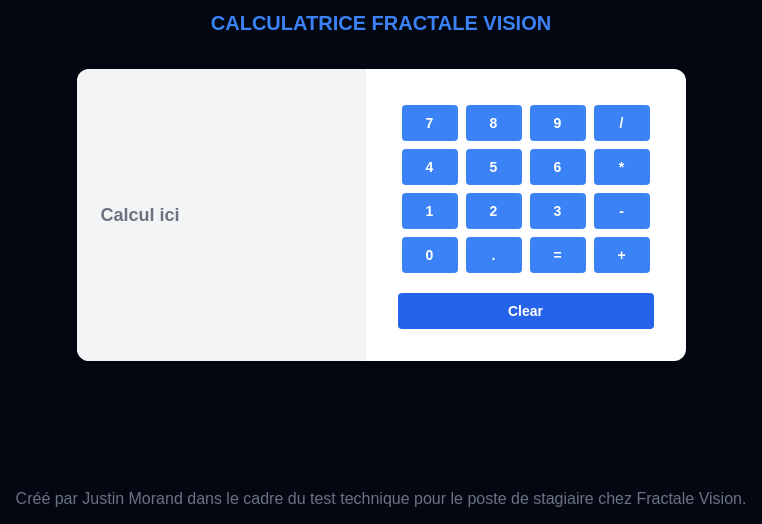
Test: Composant Home - Calculatrice Fractale Vision › effectue un calcul correct lors de l'appui sur '='
Click the button "1".
click(430, 211)  # box [402, 193, 458, 229]
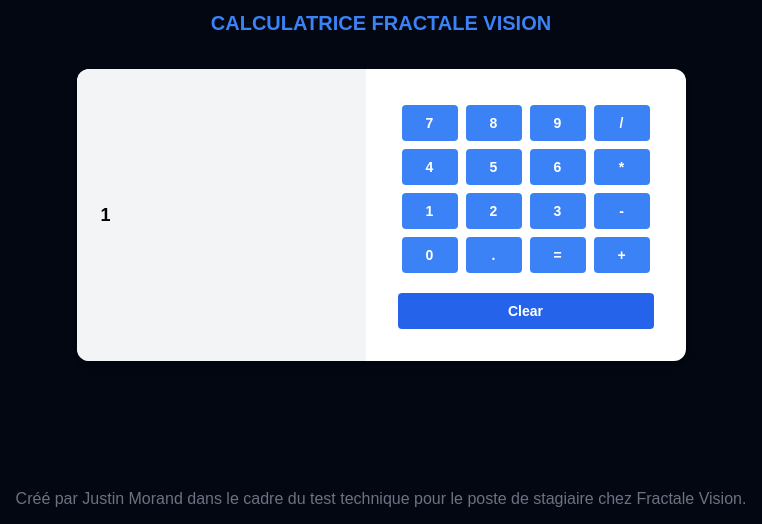
Click the button "+".
click(622, 255)  # box [594, 237, 650, 273]
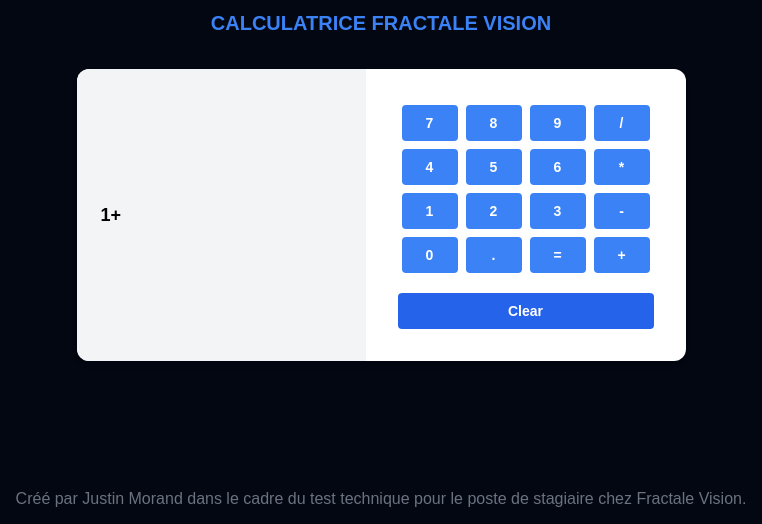
Click the button "2".
click(494, 211)  # box [466, 193, 522, 229]
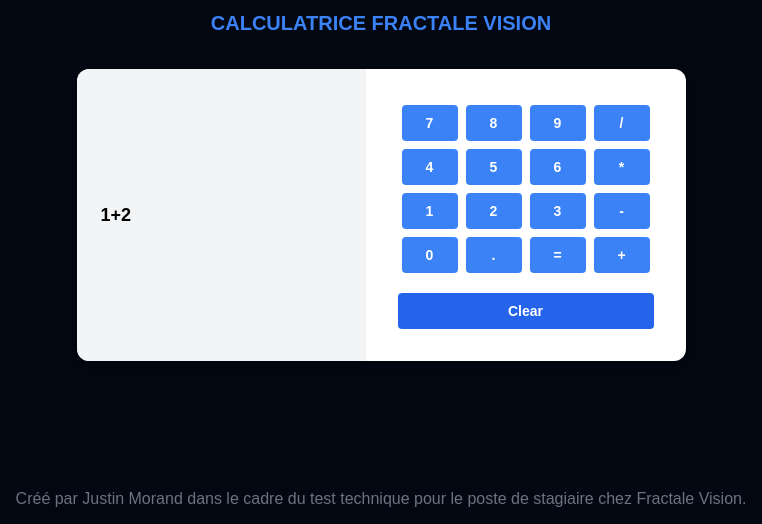
Click the button "=".
click(558, 255)  # box [530, 237, 586, 273]
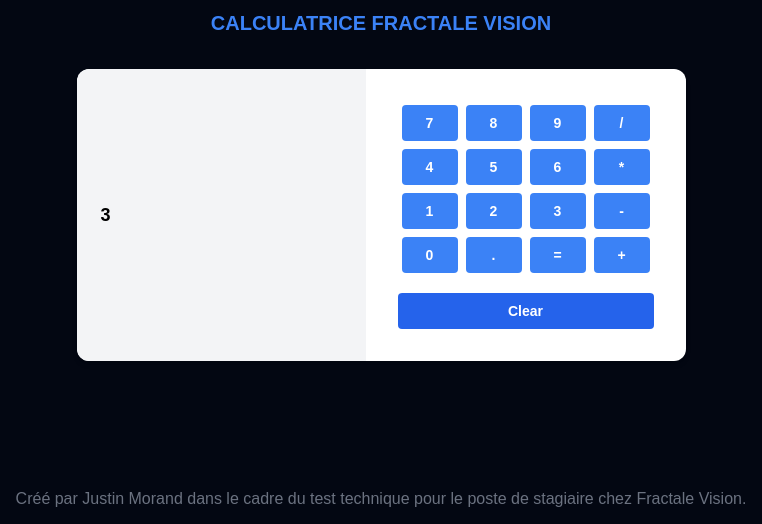
Expected: the field with placeholder "Calcul ici" holds "3", [76, 69, 366, 361]
